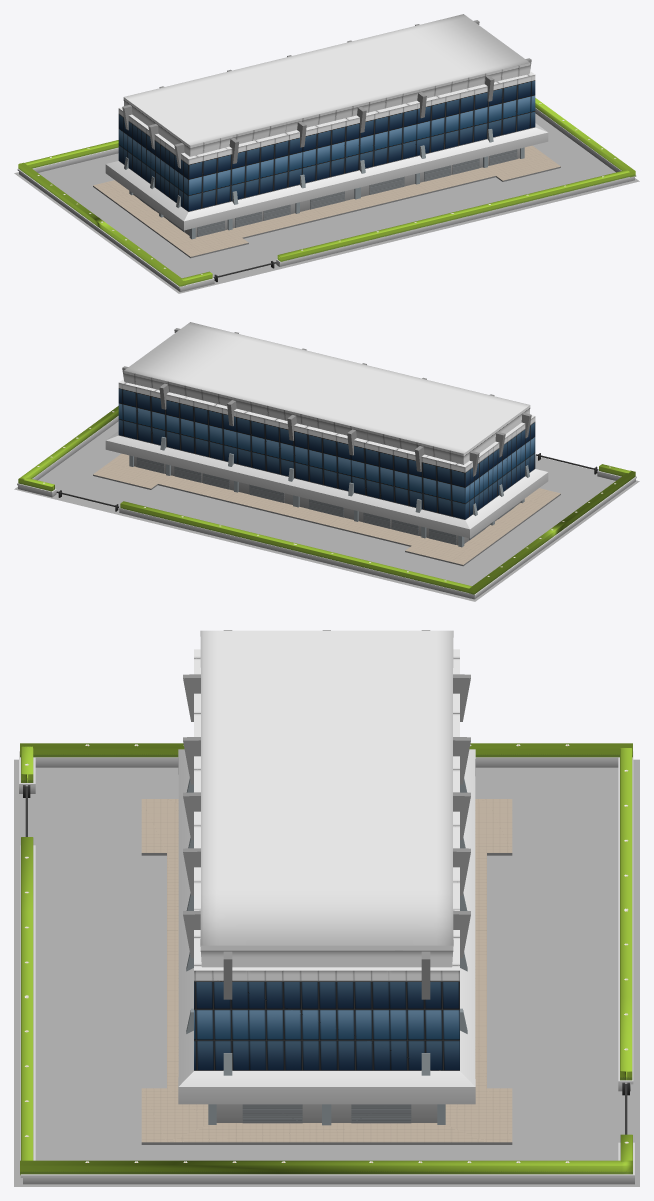
The model's file is Ruko1.fbx.
3 views of the same model, one above another, from view 1: azimuth 30°, elevation 25°; view 2: azimuth 150°, elevation 25°; view 3: azimuth 270°, elevation 25° (orthographic). The views are drawn at different scales.
Parts seen in each view (by area): view 1: Building4_LOD0, FlorBuilding4_LOD0, WallsBuilding4_LOD0; view 2: Building4_LOD0, FlorBuilding4_LOD0, WallsBuilding4_LOD0; view 3: Building4_LOD0, FlorBuilding4_LOD0, WallsBuilding4_LOD0.
Boxes of the visible parts, <box> form: Building4_LOD0: <box>93,14,560,258</box>; FlorBuilding4_LOD0: <box>14,113,639,293</box>; WallsBuilding4_LOD0: <box>17,98,636,291</box>; Building4_LOD0: <box>93,322,560,566</box>; FlorBuilding4_LOD0: <box>14,421,639,601</box>; WallsBuilding4_LOD0: <box>17,406,636,599</box>; Building4_LOD0: <box>141,630,512,1144</box>; FlorBuilding4_LOD0: <box>14,759,639,1186</box>; WallsBuilding4_LOD0: <box>19,743,634,1184</box>.
Bounding box in the file's own units: 14677 × 2964 × 9090.
